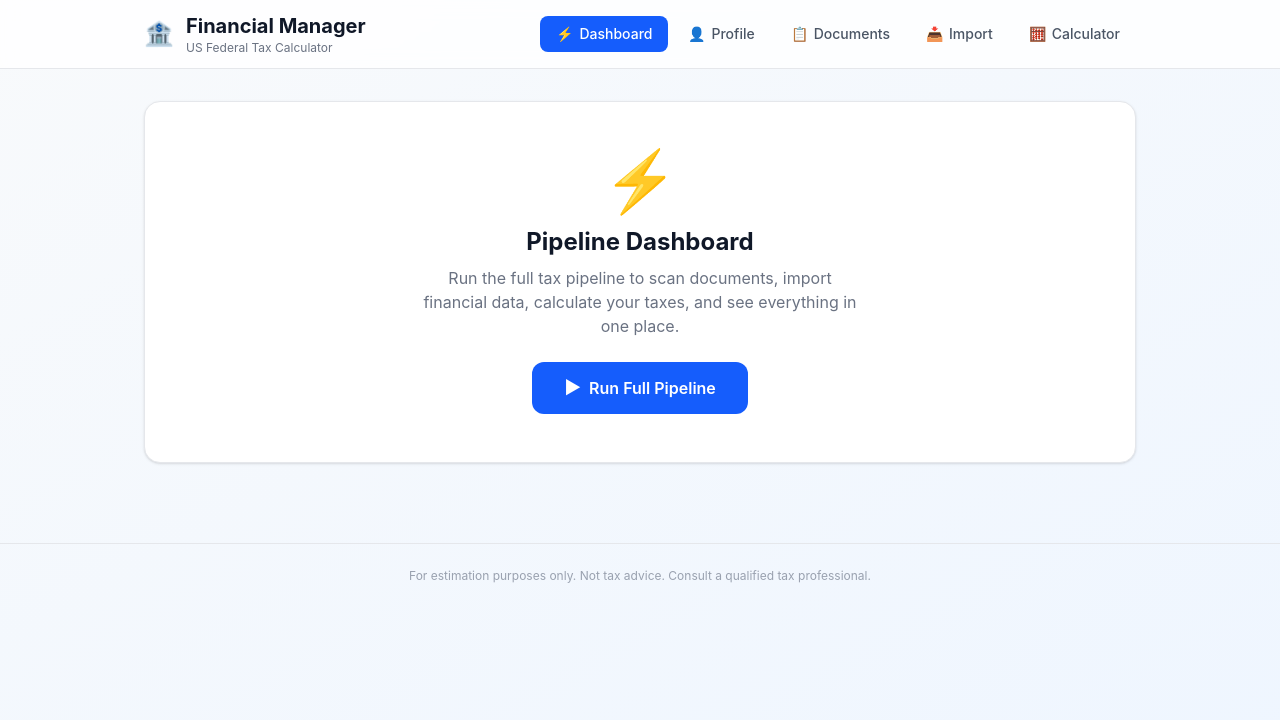
Test: App › navigates to documents view
Click the text "Documents". click: point(852, 34)
box: [814,24,890,44]
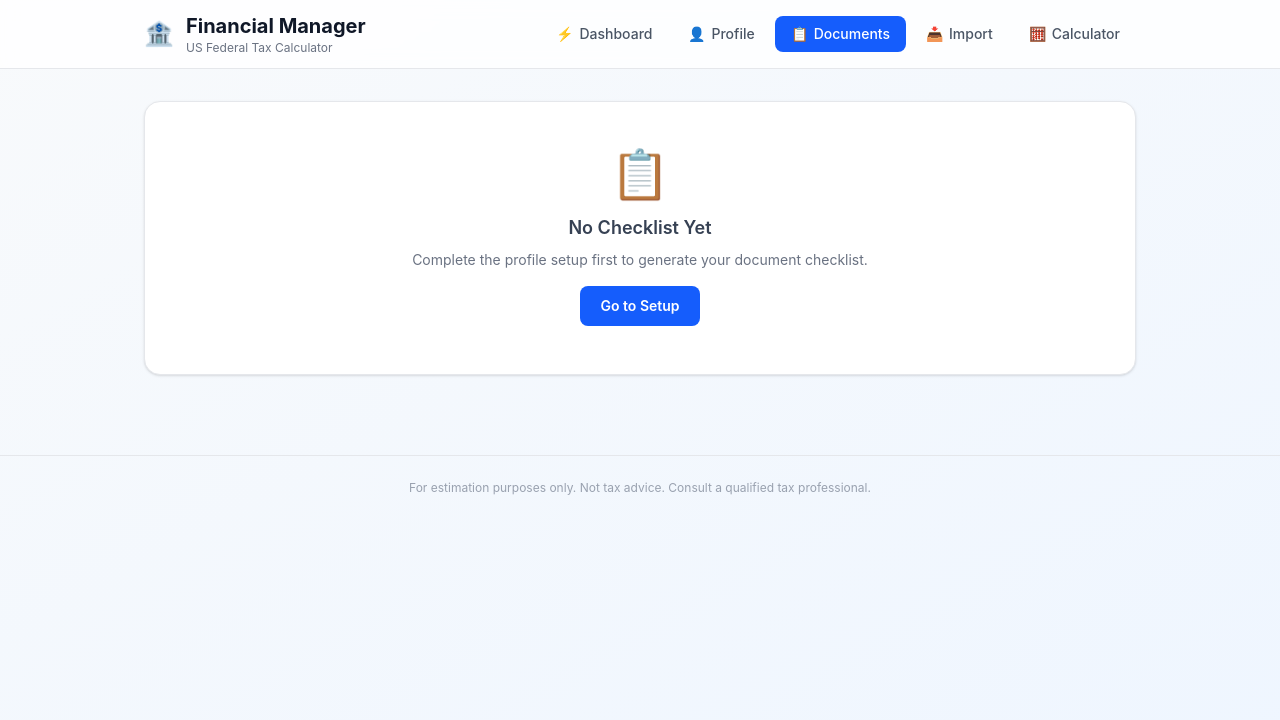
Expected: the heading "No Checklist Yet" is shown, [568,217,712,238]
